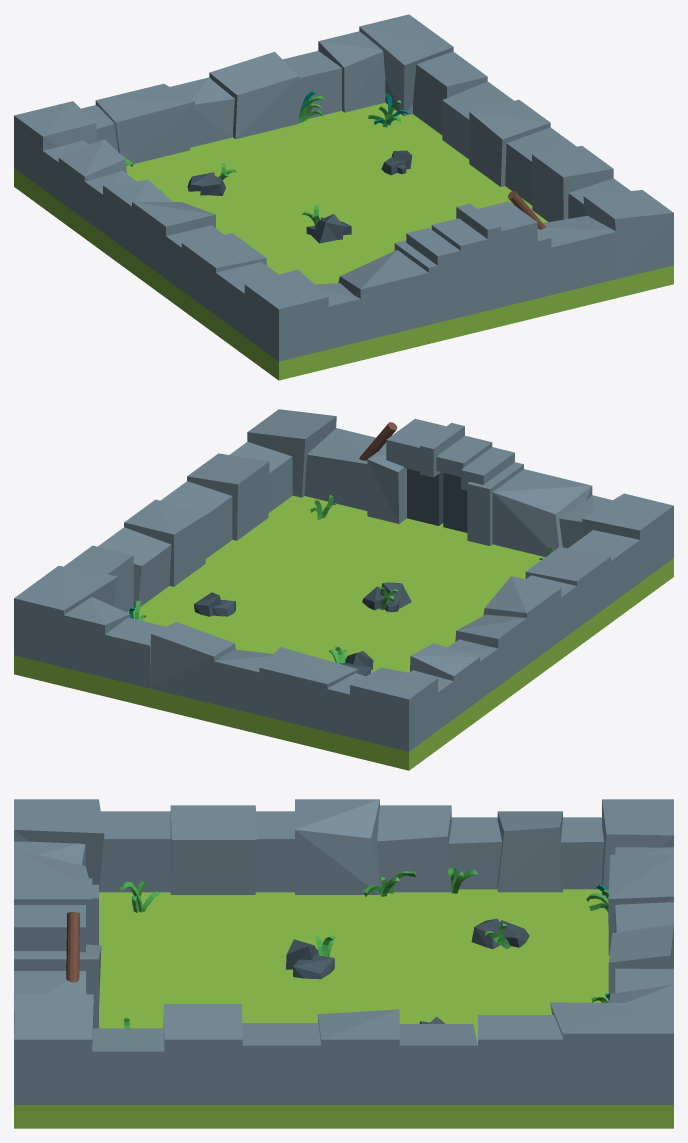
Rendered from place21.glb.
3 renders of one model, top to bottom at view 1: azimuth 30°, elevation 25°; view 2: azimuth 150°, elevation 25°; view 3: azimuth 270°, elevation 25°, orthographic. The views are drawn at different scales.
Parts seen in each view (by area): view 1: group1425573687; view 2: group1425573687; view 3: group1425573687.
Boxes of the visible parts, <box> form: group1425573687: <box>14,14,673,380</box>; group1425573687: <box>14,409,673,770</box>; group1425573687: <box>14,799,673,1128</box>.
Bounding box in the file's own units: 0.87 × 0.2282 × 1.01.
1 material, 1 textured.
